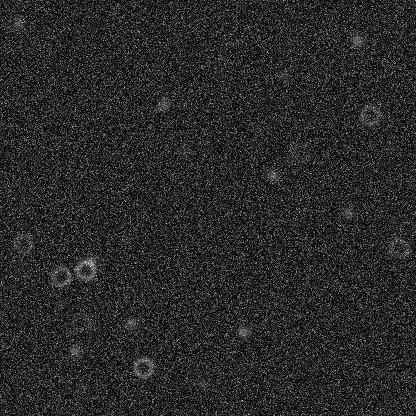Ring: (73, 257, 97, 281), (358, 103, 382, 127), (48, 264, 72, 288), (386, 236, 410, 260), (131, 355, 155, 379), (69, 310, 93, 334), (288, 140, 312, 164), (11, 231, 35, 255)
Spot: (339, 204, 355, 220), (275, 66, 291, 82), (73, 377, 89, 393), (194, 374, 210, 390), (66, 342, 82, 358), (83, 253, 99, 269), (235, 323, 251, 339), (118, 290, 134, 306), (155, 96, 171, 112), (178, 143, 194, 159), (119, 230, 135, 246), (122, 315, 138, 331), (9, 14, 25, 30), (349, 32, 365, 48), (264, 167, 280, 183)
